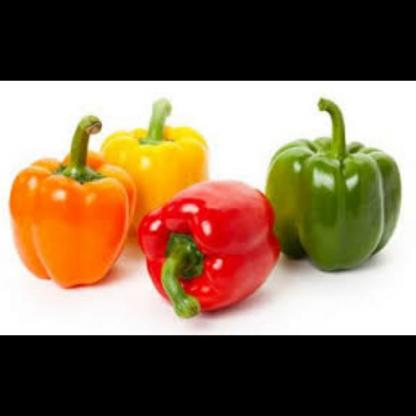bell pepper: (269, 117, 406, 273), (136, 174, 280, 321), (10, 147, 135, 288), (99, 118, 210, 230)
